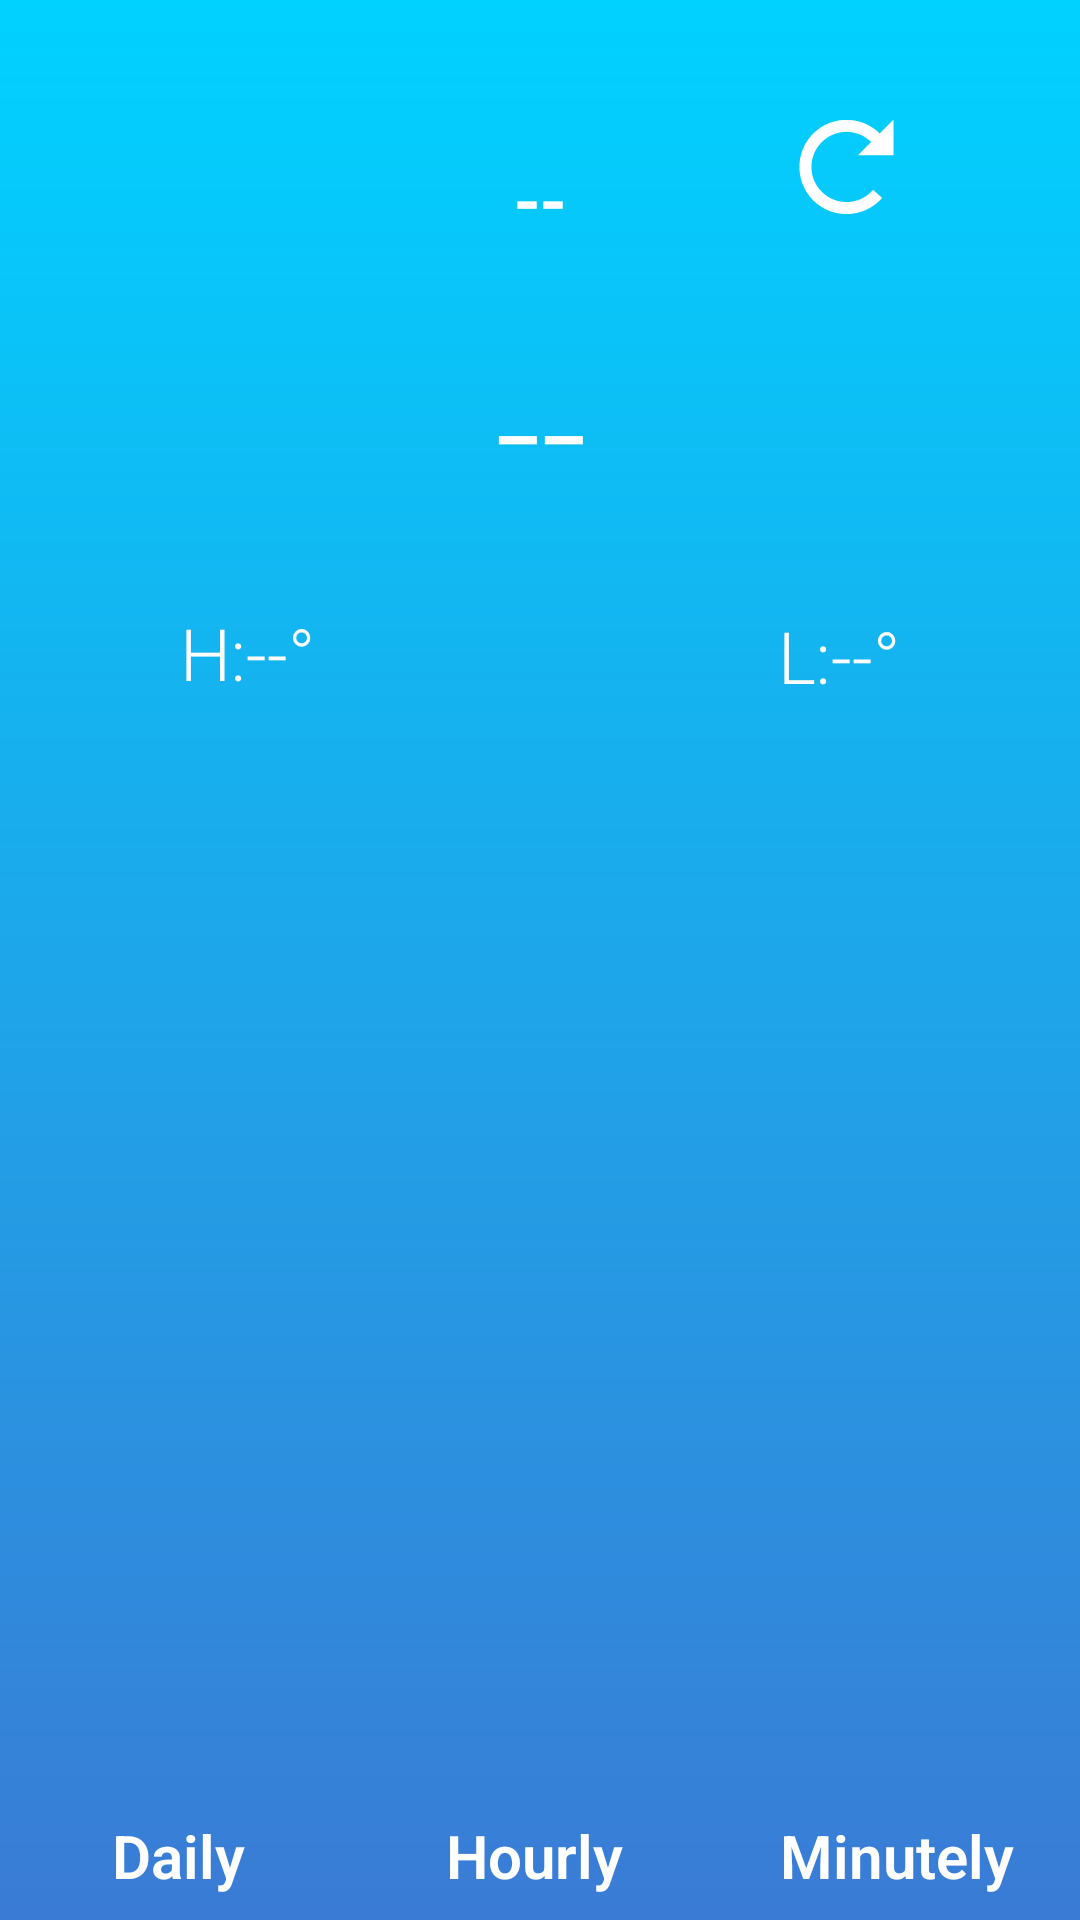

Named icons in this screenshot (1080px x 1920px) and their centers, point (x, y):
refresh: point (846, 167)
